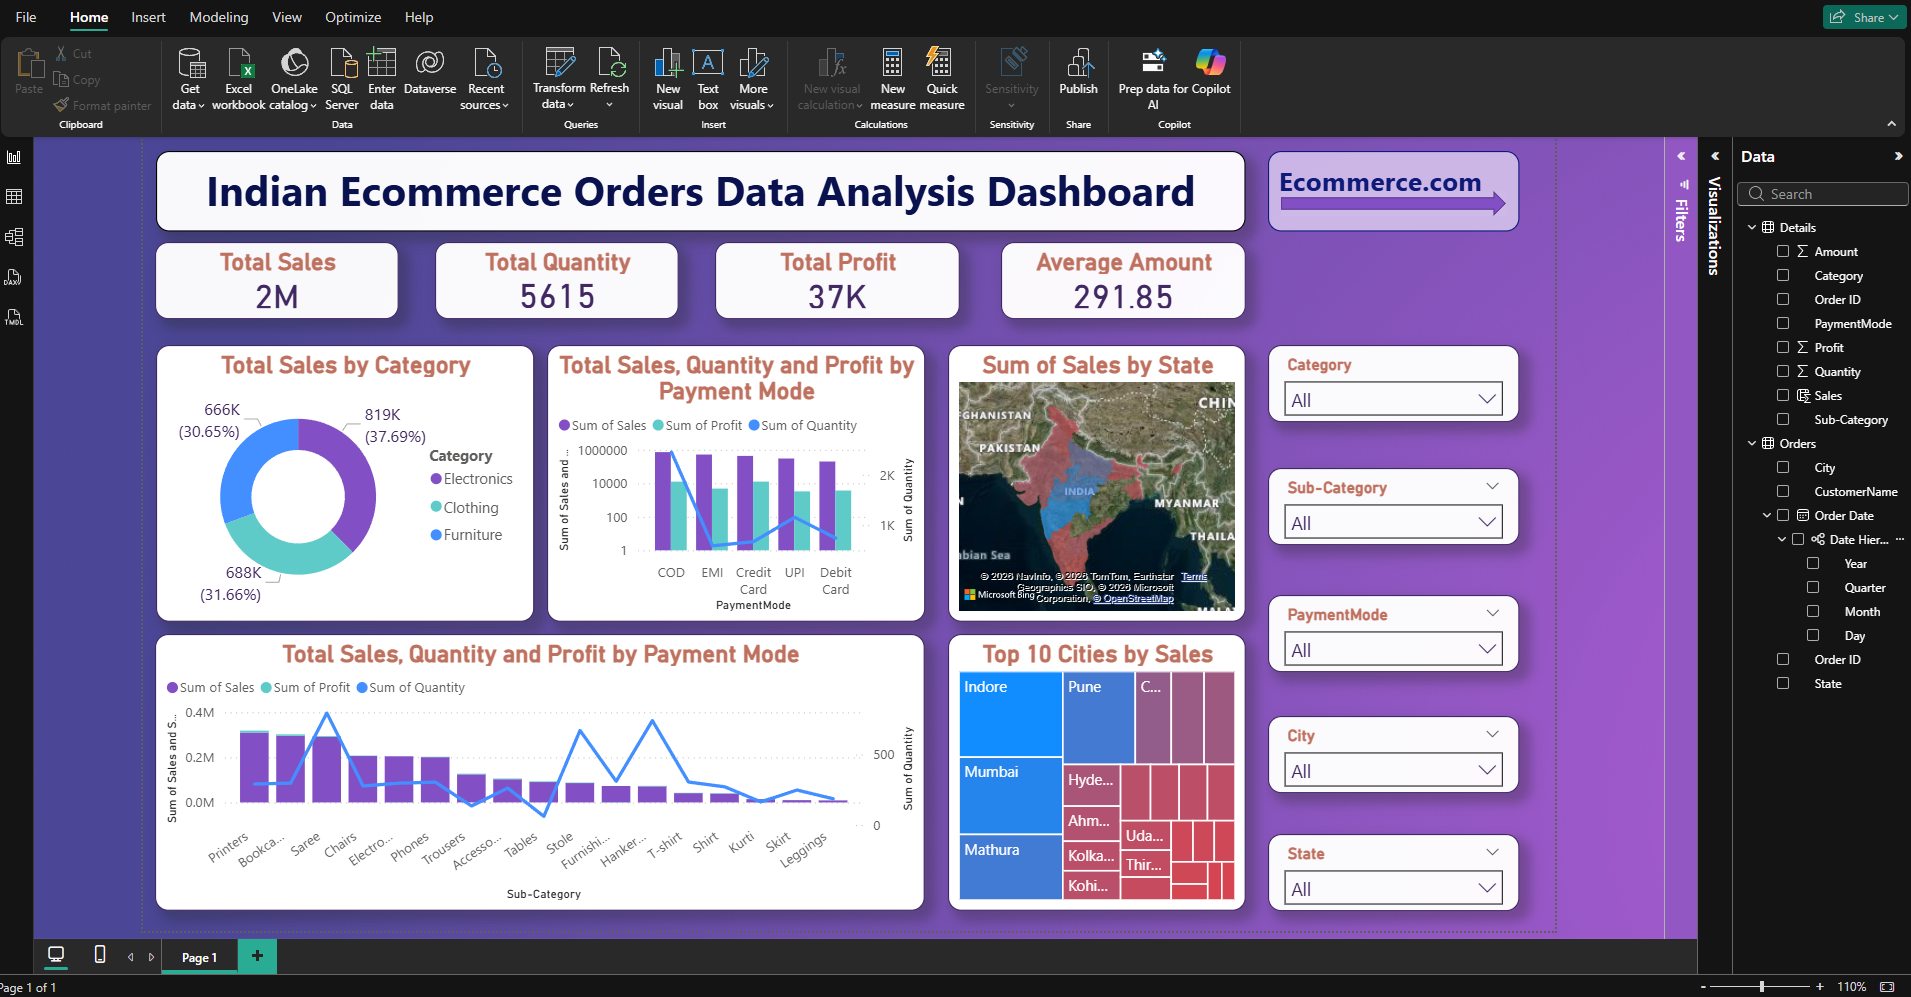

The dashboard page shown, as its layout file describes it:
{"tool":"powerbi","page":{"name":"Page 1","canvas":[1280,720],"ordinal":0},"visuals":[{"type":"textbox","box":[11.7,12.6,988.2,72.9],"z":0},{"type":"textbox","box":[1020.2,12.7,227.6,72.5],"z":1000},{"type":"card","title":"Total Sales","fields":{"Values":["Sum(Details.Sales)"]},"box":[11.2,95,221.2,70],"z":2000},{"type":"card","title":"Total Quantity","fields":{"Values":["Sum(Details.Quantity)"]},"box":[264.8,95.2,221.3,69.8],"z":3000},{"type":"card","title":"Total Profit","fields":{"Values":["Sum(Details.Profit)"]},"box":[518.7,95.3,222,70],"z":4000},{"type":"card","title":"Average Amount","fields":{"Values":["Avg(Details.Amount)"]},"box":[778,95.3,222,70],"z":5000},{"type":"slicer","fields":{"Values":["Details.Category"]},"box":[1020,188.5,227.7,70],"z":6000},{"type":"slicer","fields":{"Values":["Details.PaymentMode"]},"box":[1020,415.7,227.9,70],"z":7000},{"type":"slicer","fields":{"Values":["Details.Sub-Category"]},"box":[1020,300,227.7,70],"z":8000},{"type":"slicer","fields":{"Values":["Orders.City"]},"box":[1020,525.4,227.7,70],"z":9000},{"type":"slicer","fields":{"Values":["Orders.State"]},"box":[1020,632.3,227.7,70],"z":10000},{"type":"donutChart","title":"Total Sales by Category","fields":{"Category":["Details.Category"],"Y":["Sum(Details.Sales)"]},"box":[11.8,188.6,342.8,251.2],"z":11000},{"type":"lineClusteredColumnComboChart","title":"Total Sales, Quantity and Profit by Payment Mode","fields":{"Category":["Details.PaymentMode"],"Y":["Sum(Details.Sales)","Sum(Details.Profit)"],"Y2":["Sum(Details.Quantity)"]},"box":[366.3,188.6,342.8,251.2],"z":12000},{"type":"lineStackedColumnComboChart","title":"Total Sales, Quantity and Profit by Payment Mode","fields":{"Y":["Sum(Details.Sales)","Sum(Details.Profit)"],"Y2":["Sum(Details.Quantity)"],"Category":["Details.Sub-Category"]},"box":[10.9,450.7,698.2,251.2],"z":13000},{"type":"filledMap","fields":{"Category":["Orders.State"]},"box":[730,188.6,270.2,251.2],"z":14000},{"type":"treemap","title":"Top 10 Cities by Sales","fields":{"Group":["Orders.City"],"Values":["Sum(Details.Sales)"]},"box":[730,450.7,270.2,251.2],"z":15000},{"type":"shape","box":[1031.9,49,204,22.7],"z":16000}]}

Visuals, with their boxes on the page's 1280x720 design canvas (x1, y1, x2, y2). These are canvas units, not pixel positions in the 1911x997 screenshot, which may show the page scaled, cropped or inside an application window:
textbox: 12 13 1000 86
textbox: 1020 13 1248 85
"Total Sales" card: 11 95 232 165
"Total Quantity" card: 265 95 486 165
"Total Profit" card: 519 95 741 165
"Average Amount" card: 778 95 1000 165
slicer - Details.Category: 1020 188 1248 258
slicer - Details.PaymentMode: 1020 416 1248 486
slicer - Details.Sub-Category: 1020 300 1248 370
slicer - Orders.City: 1020 525 1248 595
slicer - Orders.State: 1020 632 1248 702
"Total Sales by Category" donutChart: 12 189 355 440
"Total Sales, Quantity and Profit by Payment Mode" lineClusteredColumnComboChart: 366 189 709 440
"Total Sales, Quantity and Profit by Payment Mode" lineStackedColumnComboChart: 11 451 709 702
filledMap - Orders.State: 730 189 1000 440
"Top 10 Cities by Sales" treemap: 730 451 1000 702
shape: 1032 49 1236 72
